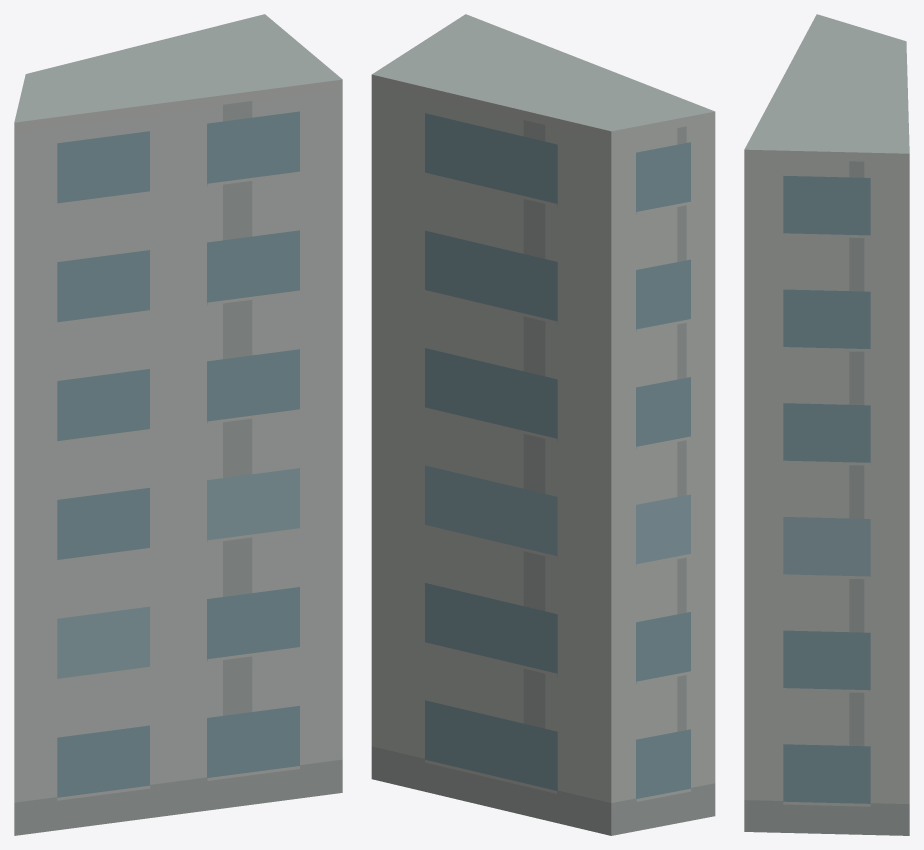
Rendered from survey-upis-32737851.glb.
The picture shows the model from 3 angles, left to right: view 1: azimuth 30°, elevation 25°; view 2: azimuth 150°, elevation 25°; view 3: azimuth 270°, elevation 25°; orthographic projection. The views are drawn at different scales.
Parts seen in each view (by area): view 1: survey-upis-32737851.tmp; view 2: survey-upis-32737851.tmp; view 3: survey-upis-32737851.tmp.
Boxes of the visible parts, x1,y1,x2,y2 form: survey-upis-32737851.tmp: [14, 14, 342, 835]; survey-upis-32737851.tmp: [371, 14, 715, 835]; survey-upis-32737851.tmp: [744, 14, 909, 835].
Bounding box in the file's own units: 8.05 × 18.3 × 4.03.
